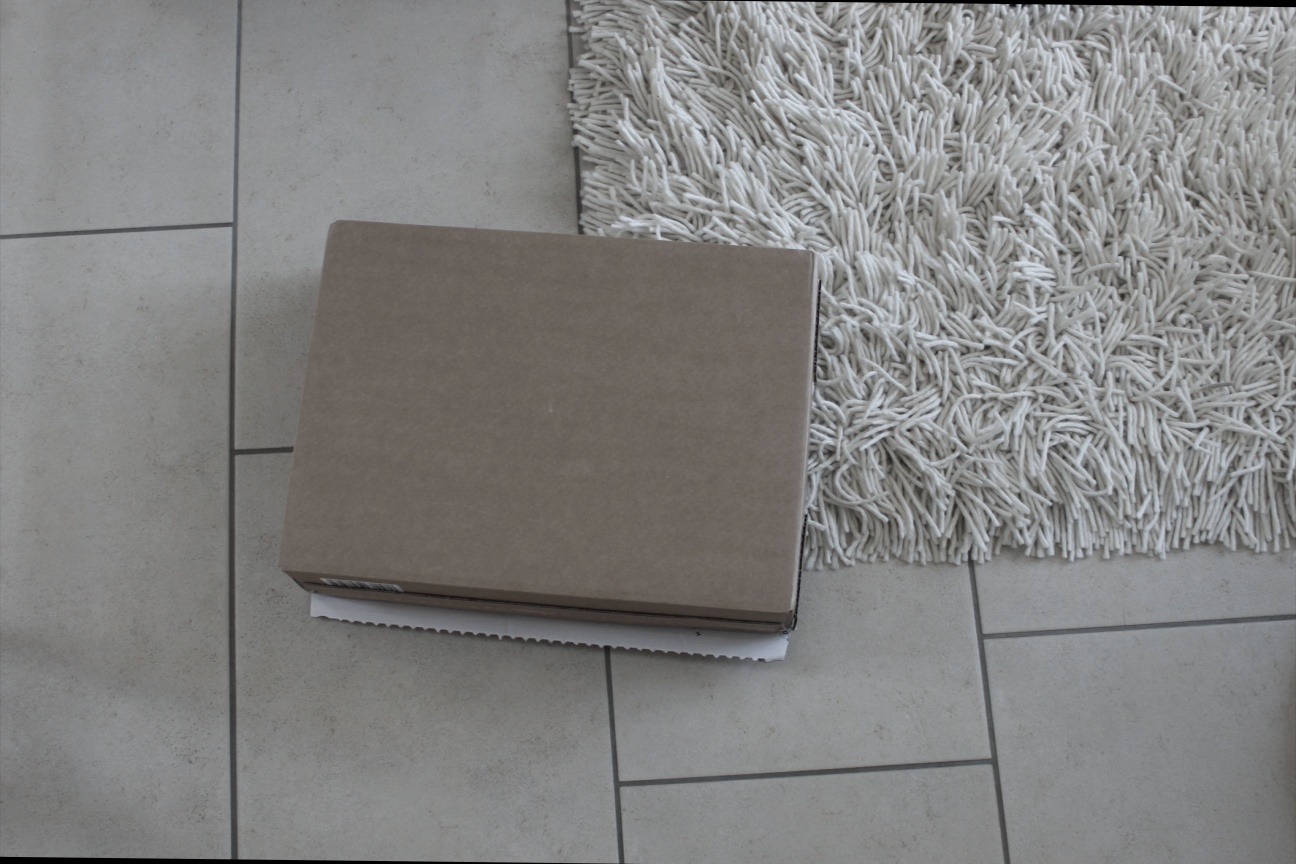good-parcel: (277, 206, 828, 671)
